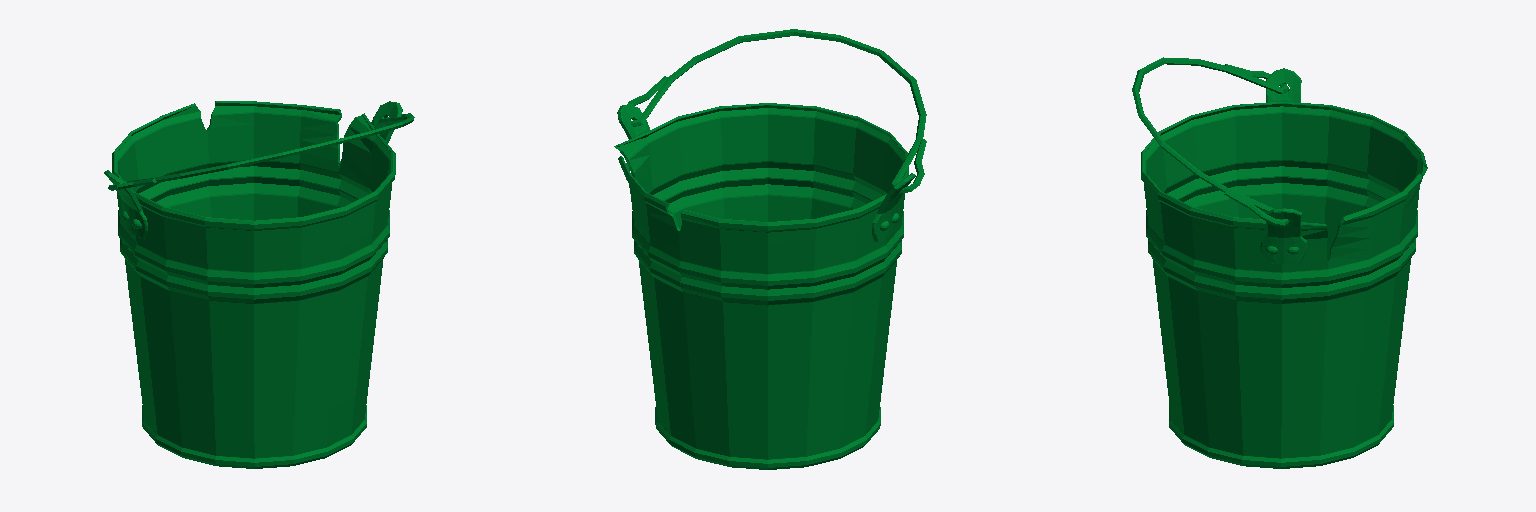
Rendered from bucket.obj.
The picture shows the model from 3 angles: view 1: azimuth 30°, elevation 25°; view 2: azimuth 150°, elevation 25°; view 3: azimuth 270°, elevation 25°; orthographic projection.
Parts seen in each view (by area): view 1: bucket01; view 2: bucket01; view 3: bucket01.
Part boxes in pixels (x1,y1,x2,y2): bucket01: (104,101,414,468); bucket01: (614,29,926,469); bucket01: (1132,57,1427,468).
Size of the model in its own units: 0.5632 by 0.6041 by 0.4833.